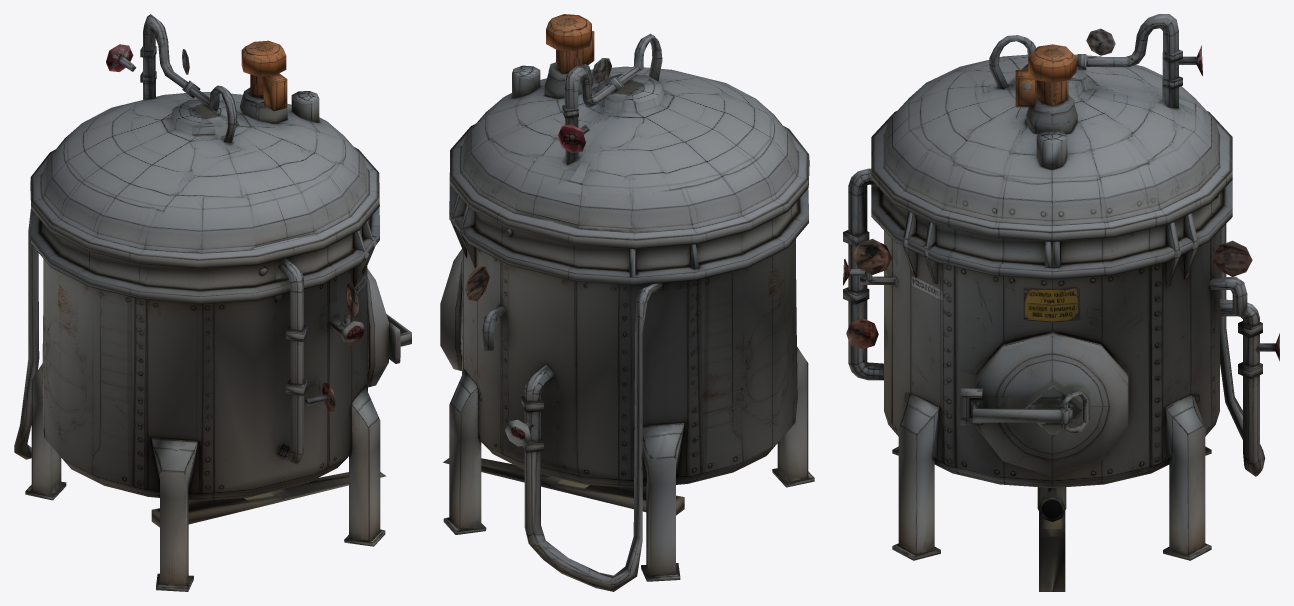
File: mixer_room_A.fbx
The picture shows the model from 3 angles, left to right: view 1: azimuth 30°, elevation 25°; view 2: azimuth 150°, elevation 25°; view 3: azimuth 270°, elevation 25°; orthographic projection. The views are drawn at different scales.
Parts seen in each view (by area): view 1: meshes[0]; view 2: meshes[0]; view 3: meshes[0].
Part boxes in pixels (<box>): meshes[0]: <box>14,14,411,591</box>; meshes[0]: <box>440,14,814,591</box>; meshes[0]: <box>843,14,1279,591</box>.
Size of the model in its own units: 0.748 by 0.998 by 0.8105.
